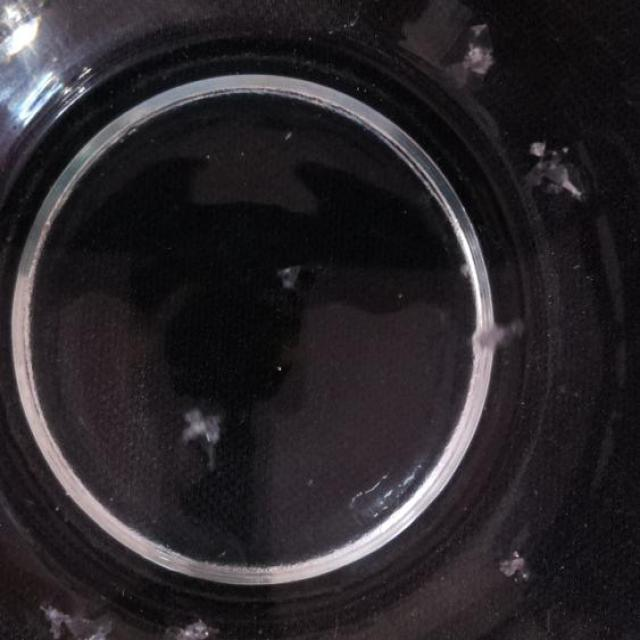fiber: (527, 140, 597, 210), (344, 462, 429, 519), (41, 601, 120, 640), (181, 403, 227, 468), (464, 22, 501, 84), (472, 320, 532, 356), (494, 540, 540, 586), (167, 615, 226, 637), (278, 263, 307, 293)
